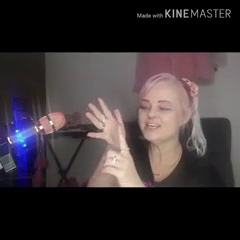T: (83, 94, 139, 185)
